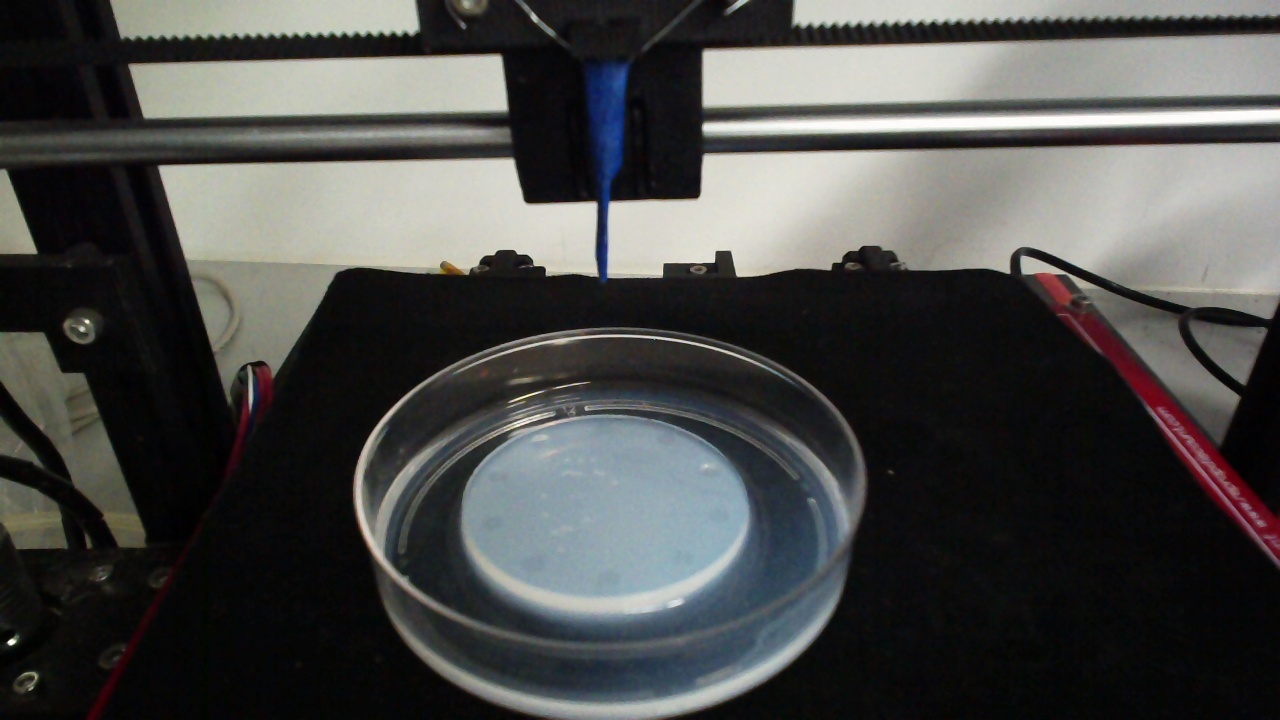groove: (475, 510, 505, 534), (520, 549, 546, 575), (592, 568, 620, 590), (669, 547, 697, 569), (697, 460, 727, 479), (705, 504, 731, 525), (487, 465, 513, 483), (528, 432, 551, 450), (655, 430, 678, 446)
needle: (594, 63, 625, 283)
